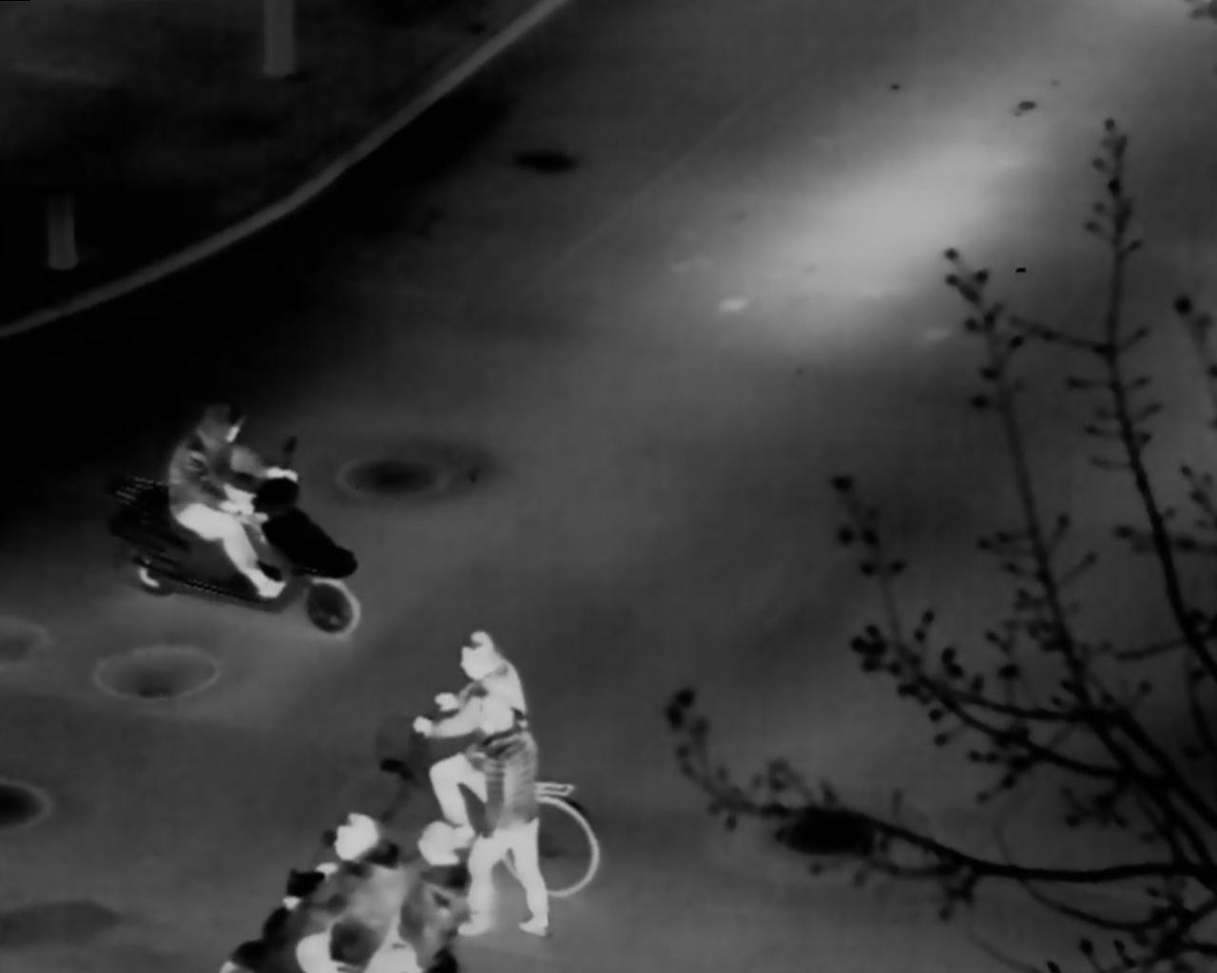person: (166, 403, 299, 601), (457, 693, 551, 936), (413, 631, 527, 829), (281, 810, 401, 973), (364, 822, 473, 973)
